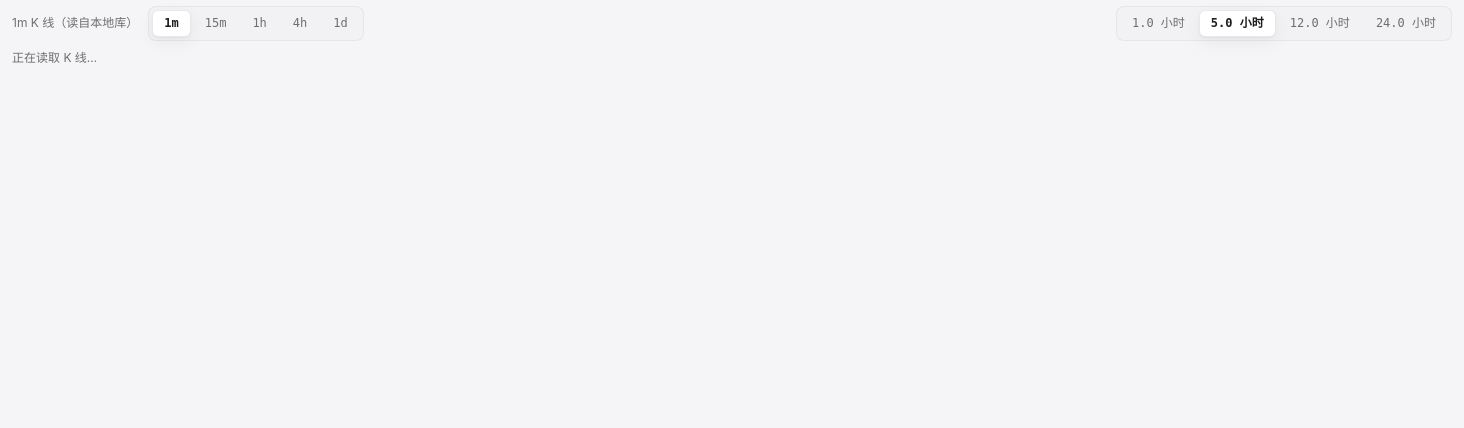
Test: PriceChart 周期切换 › 说明根因在上游 1m，并标明那是全历史累计口径
The width and height of the screenshot is (1464, 428).
What coordinates should you click on to do the following:
click the button titled "切换到 4h"
I would click on:
 (300, 23)
Its box is x1=281 y1=10 x2=319 y2=37.
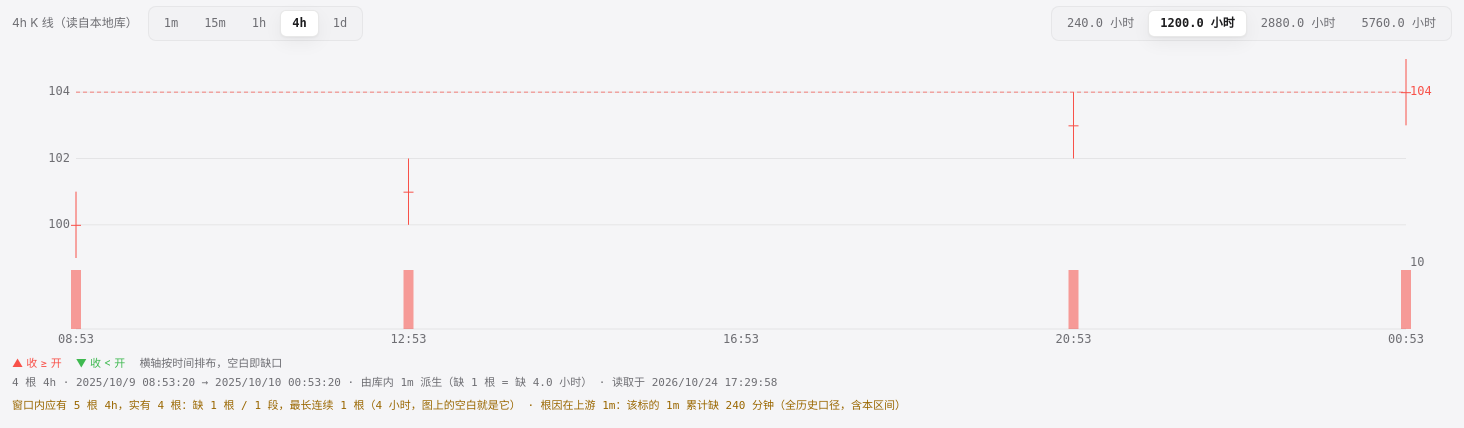
Expected: the text "根因在上游 1m" is shown, x1=527 y1=399 x2=726 y2=412
Expected: the text "240" is shown, x1=1055 y1=10 x2=1146 y2=37
Expected: the text "累计" is shown, x1=12 y1=399 x2=906 y2=412
